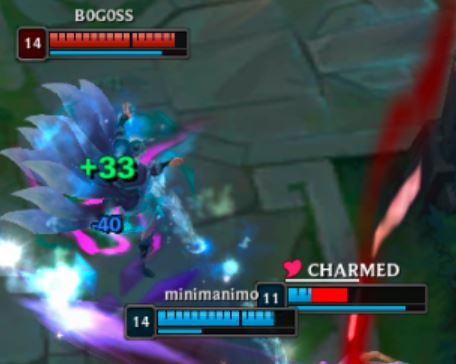bar: (121, 301, 301, 343), (13, 24, 197, 65), (253, 279, 431, 318)
